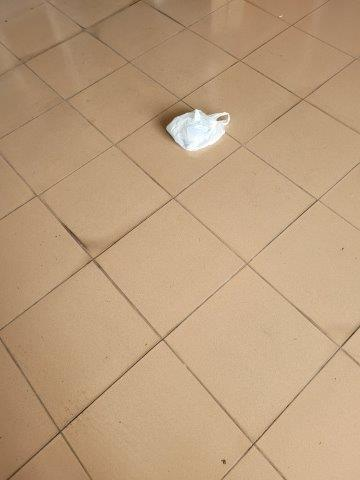plastik: (165, 108, 230, 153)
